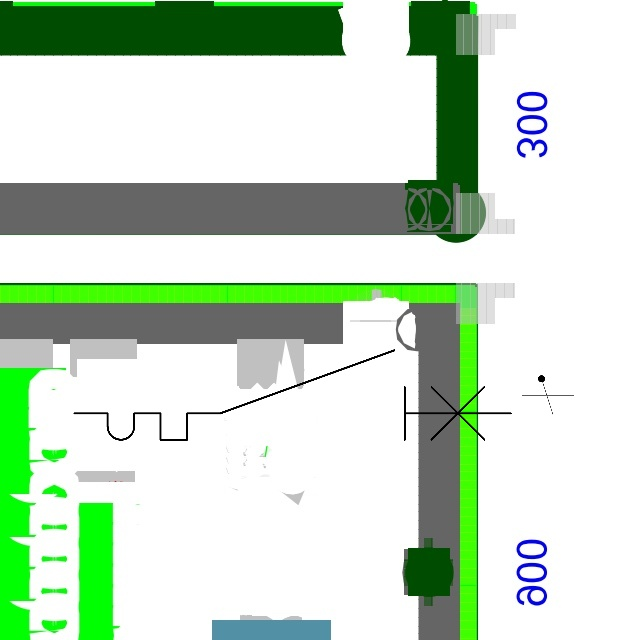interruptor_termomagnetico: (63, 339, 522, 451)
